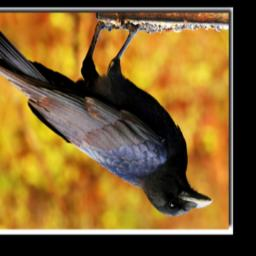Crow: (0, 21, 213, 220)
